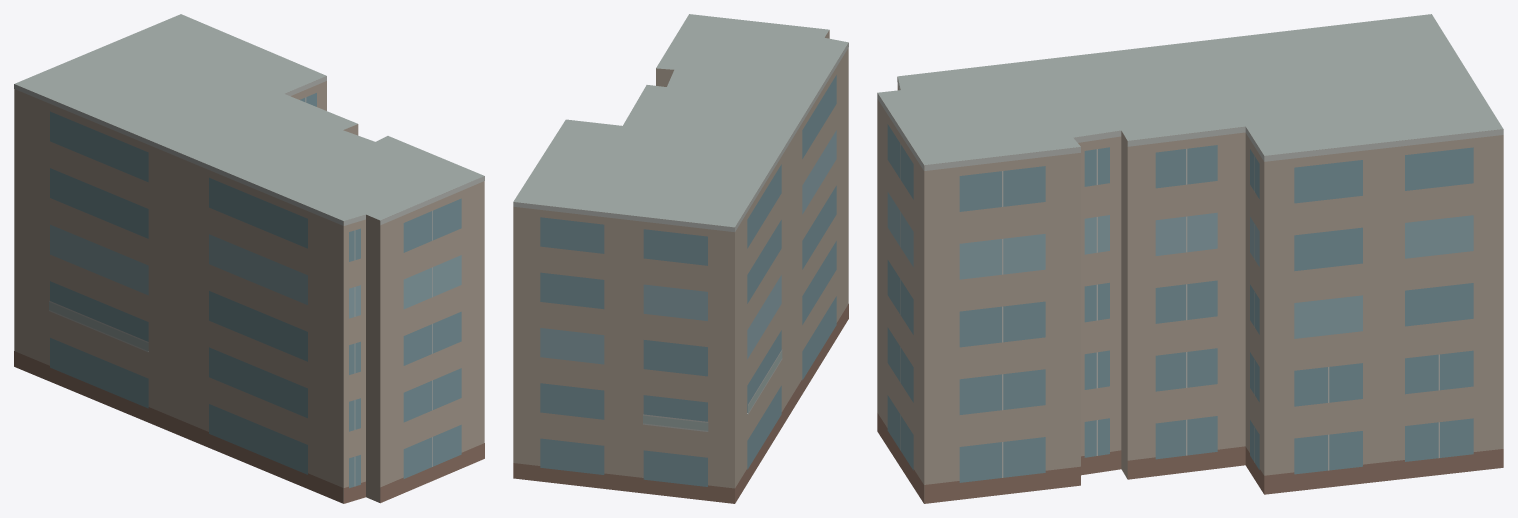
File: survey-upis-32695243.glb
3 views of the same model, side by side, from view 1: azimuth 30°, elevation 25°; view 2: azimuth 150°, elevation 25°; view 3: azimuth 270°, elevation 25° (orthographic). The views are drawn at different scales.
Parts seen in each view (by area): view 1: survey-upis-32695243.tmp; view 2: survey-upis-32695243.tmp; view 3: survey-upis-32695243.tmp.
Part boxes in pixels (left/top/right/bottom): survey-upis-32695243.tmp: left=14, top=14, right=484, bottom=503; survey-upis-32695243.tmp: left=513, top=14, right=848, bottom=503; survey-upis-32695243.tmp: left=877, top=14, right=1503, bottom=503.
Bounding box in the file's own units: 13.42 × 14 × 23.47.
